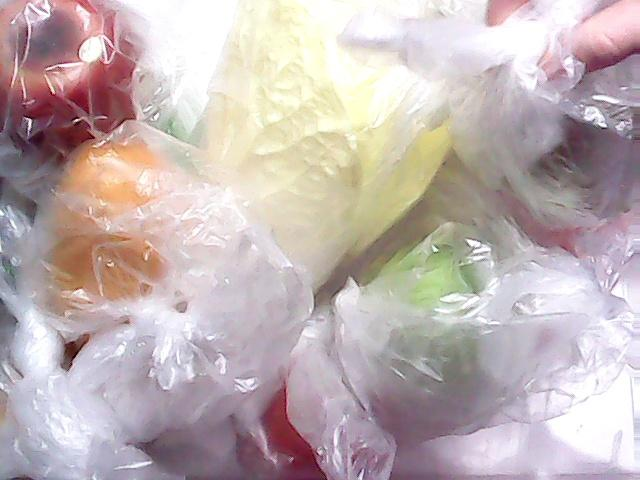apple: (0, 0, 140, 155)
cabbage: (471, 30, 640, 214)
carrot: (491, 160, 640, 274)
lemon: (40, 142, 174, 316)
napa cabbage: (134, 0, 466, 366)
peach: (236, 343, 400, 480)
